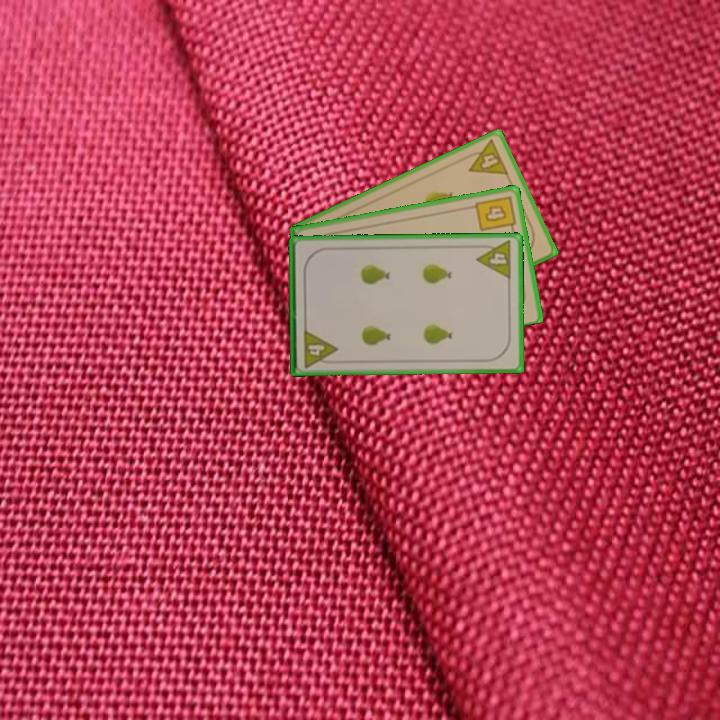4b: (472, 192, 518, 235)
4p: (460, 136, 511, 178), (473, 237, 515, 282), (300, 326, 340, 370)
